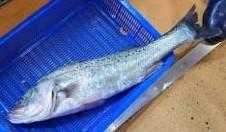fish: (8, 4, 222, 123)
